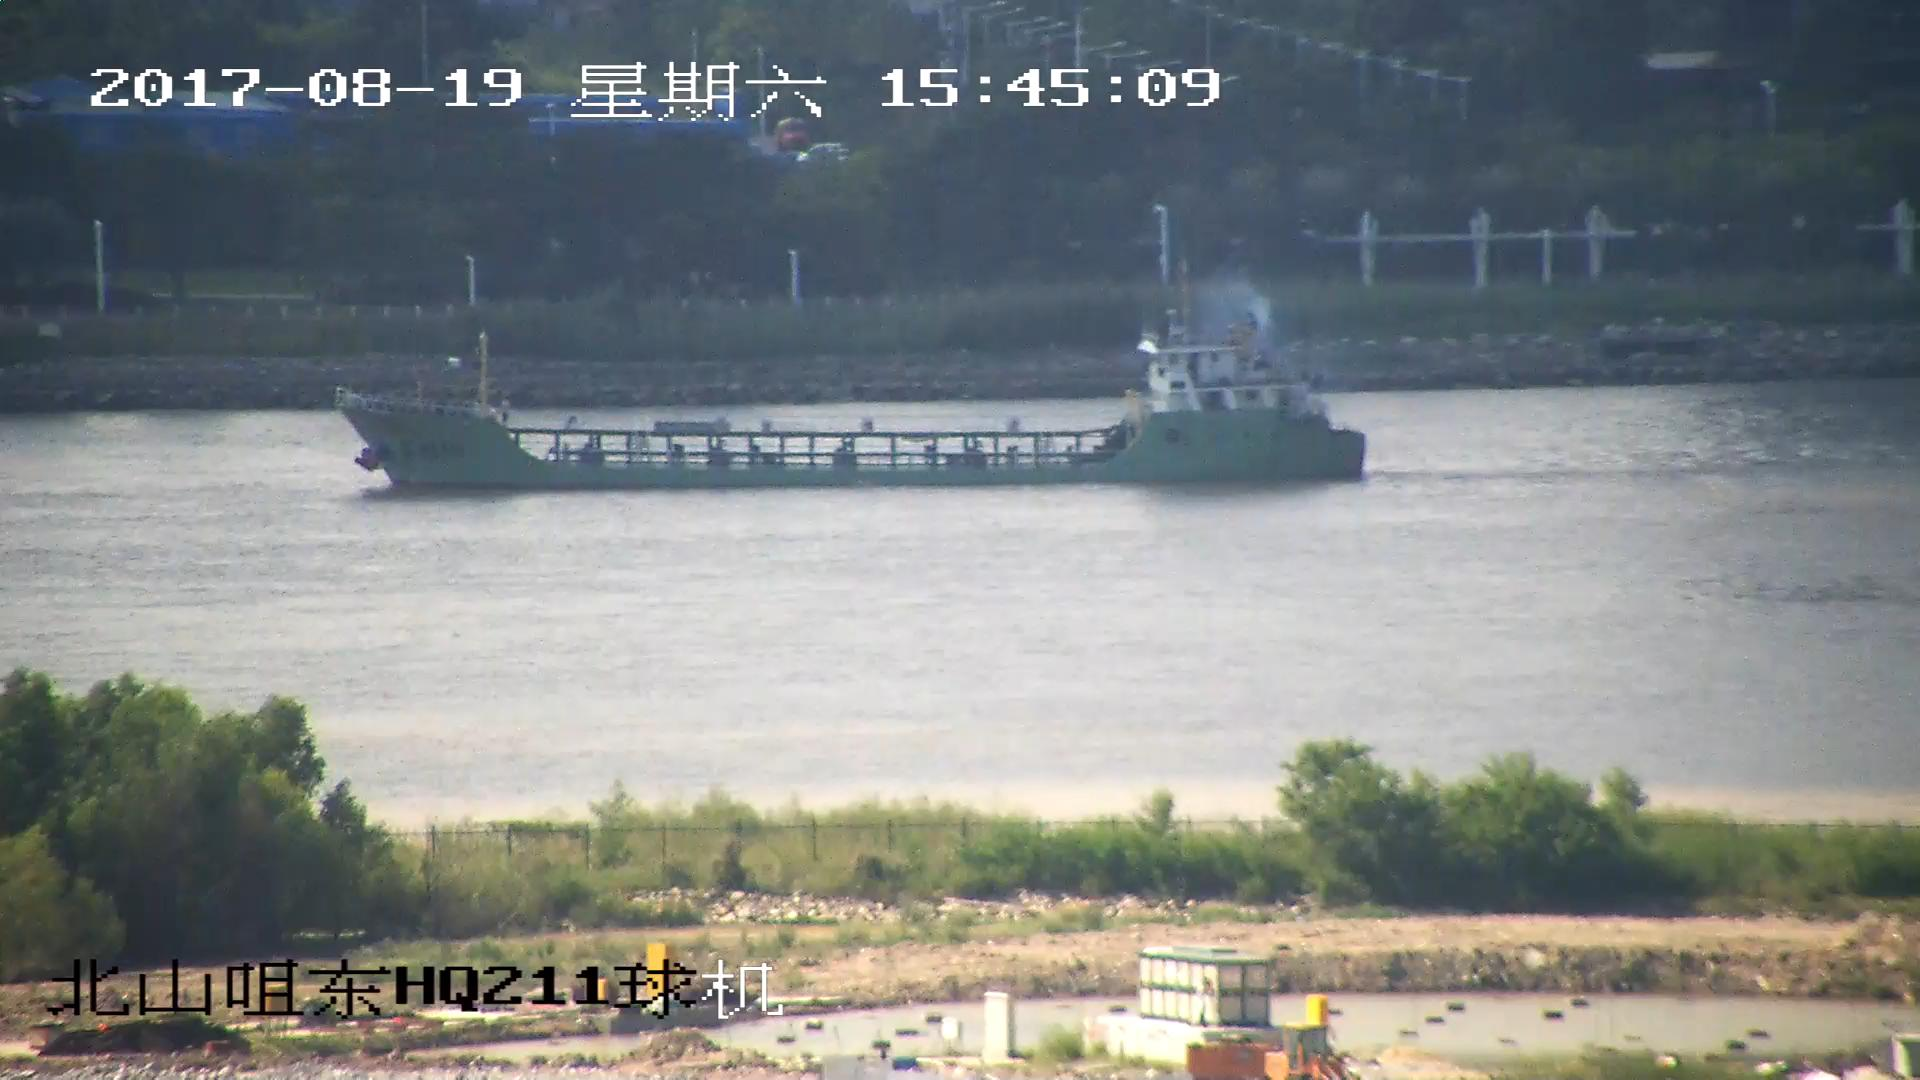general cargo ship: (339, 276, 1368, 486)
